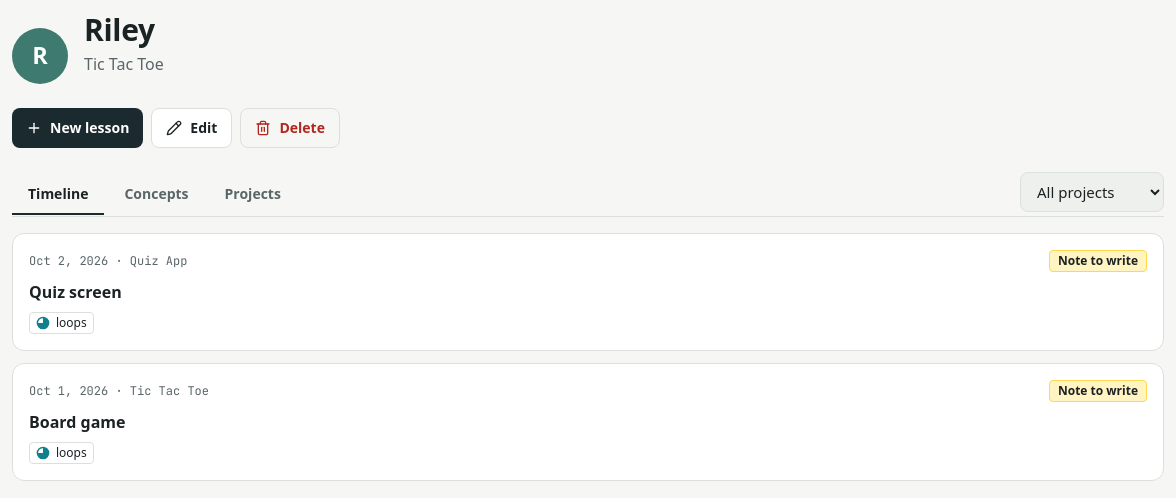
Test: StudentPage › filters the timeline by project
This screenshot has width=1176, height=498.
Select "Tic Tac Toe" in the dropdown named "Filter by project" at (1092, 192), box left=1020, top=172, right=1164, bottom=212
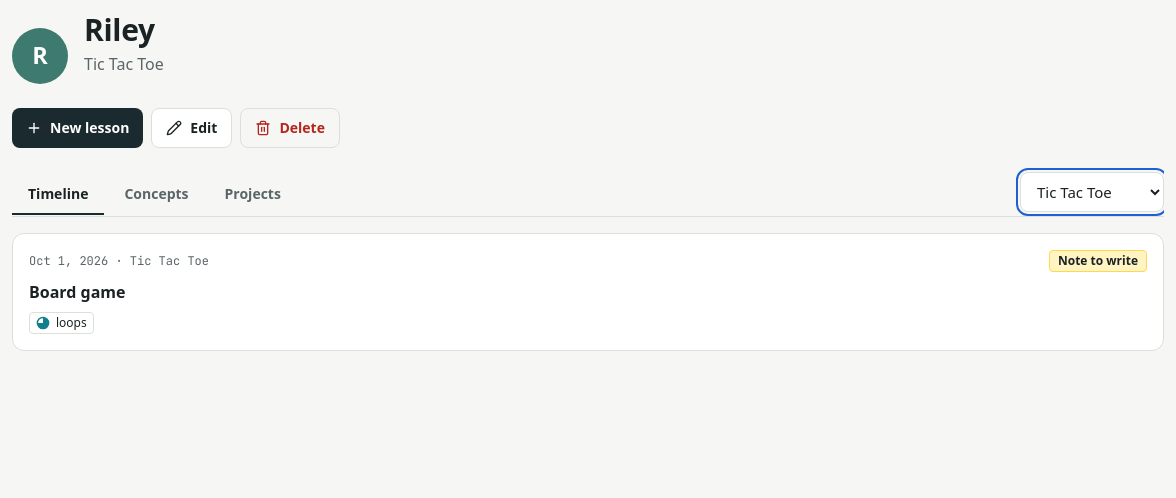
Expected: the text "Board game" is shown, left=29, top=281, right=126, bottom=303
Expected: the link "Quiz screen" is gone
